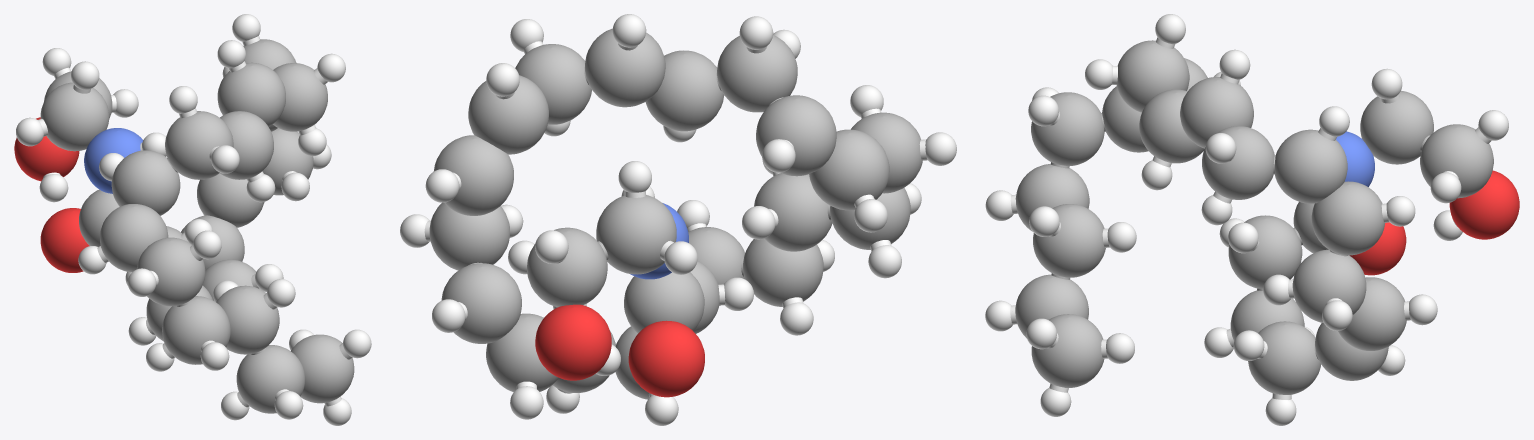
Rendered from anandamida.glb.
3 renders of one model, left to right at view 1: azimuth 30°, elevation 25°; view 2: azimuth 150°, elevation 25°; view 3: azimuth 270°, elevation 25°, orthographic. The views are drawn at different scales.
Parts seen in each view (by area): view 1: Carbon_ball_2, Carbon_ball_30, Carbon_ball_40, Carbon_ball_28, Carbon_ball_36, Carbon_ball_34, Carbon_ball_32, Carbon_ball_24, Carbon_ball_42, Carbon_ball_38, Carbon_ball_22, Carbon_ball_26 (+39 smaller); view 2: Carbon_ball_2, Oxygen_ball_2, Oxygen_ball, Carbon_ball_24, Carbon_ball_14, Carbon_ball_28, Carbon_ball_26, Carbon_ball_20, Carbon_ball_32, Carbon_ball_18, Carbon_ball_30, Carbon_ball (+36 smaller); view 3: Carbon_ball_20, Carbon_ball_18, Carbon_ball_2, Carbon_ball_10, Carbon_ball_34, Carbon_ball_42, Carbon_ball_38, Carbon_ball_16, Carbon_ball, Carbon_ball_22, Carbon_ball_28, Carbon_ball_24 (+40 smaller).
Boxes of the visible parts, x1,y1,x2,y2 form: Carbon_ball_2: (40,82,109,151); Carbon_ball_30: (111,150,180,215); Carbon_ball_40: (236,345,304,413); Carbon_ball_28: (165,111,233,179); Carbon_ball_36: (162,296,230,364); Carbon_ball_34: (137,237,205,306); Carbon_ball_32: (100,204,168,272); Carbon_ball_24: (217,62,285,126); Carbon_ball_42: (291,334,354,403); Carbon_ball_38: (216,285,279,354); Carbon_ball_22: (273,63,327,131); Carbon_ball_26: (220,111,273,179); Carbon_ball_2: (596,195,676,274); Oxygen_ball_2: (628,320,704,397); Oxygen_ball: (535,304,611,380); Carbon_ball_24: (585,28,665,107); Carbon_ball_14: (441,263,521,343); Carbon_ball_28: (717,35,797,112); Carbon_ball_26: (645,50,724,131); Carbon_ball_20: (468,75,548,154); Carbon_ball_32: (809,129,889,210); Carbon_ball_18: (433,135,513,215); Carbon_ball_30: (756,95,836,176); Carbon_ball: (527,227,607,307); Carbon_ball_20: (1274,129,1347,203); Carbon_ball_18: (1311,181,1384,255); Carbon_ball_2: (1360,91,1433,164); Carbon_ball_10: (1248,321,1321,394); Carbon_ball_34: (1031,92,1104,166); Carbon_ball_42: (1031,314,1104,387); Carbon_ball_38: (1033,204,1105,277); Carbon_ball_16: (1292,249,1366,322); Carbon_ball: (1420,124,1493,198); Carbon_ball_22: (1202,126,1274,199); Carbon_ball_28: (1116,40,1189,112); Carbon_ball_24: (1180,77,1253,148).
Size of the model in its own units: 8.65 by 8.15 by 11.12.
